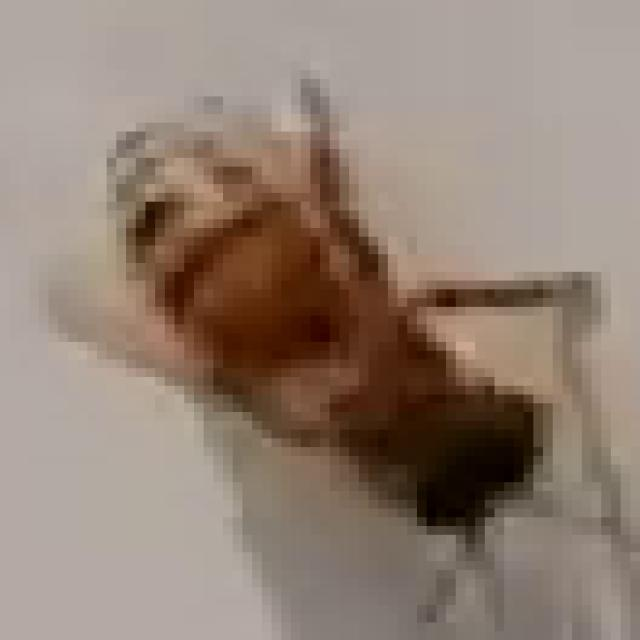honeybee: (66, 103, 547, 524)
